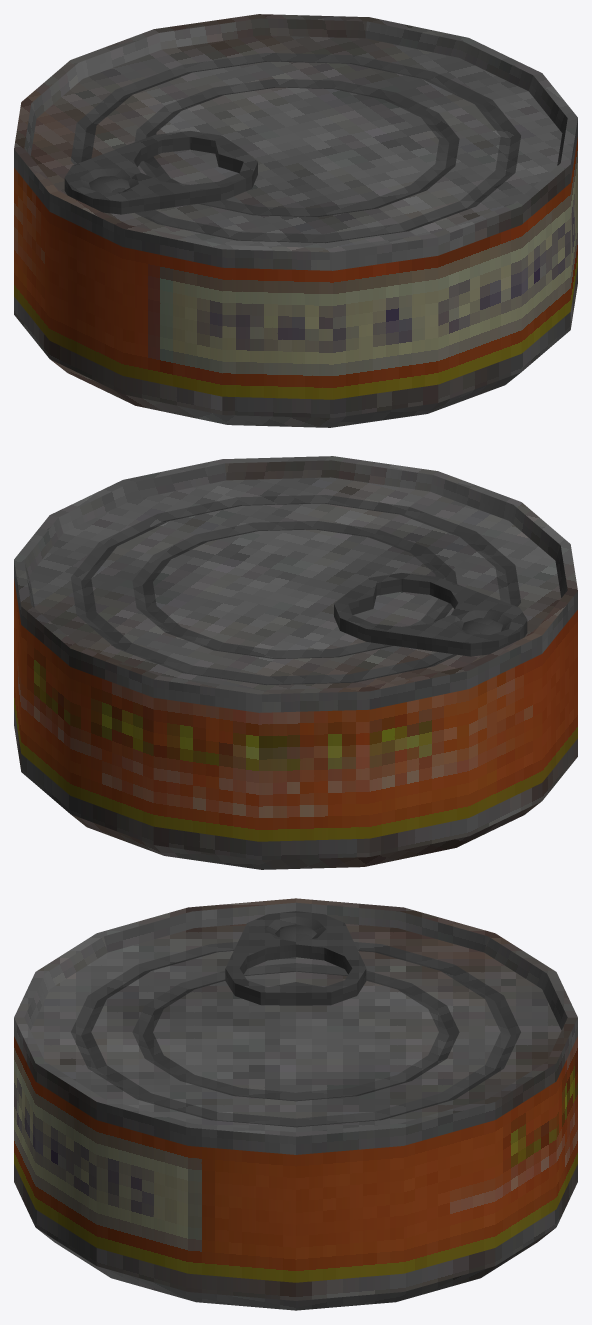
File: canned_food_3.glb
3 renders of one model, top to bottom at view 1: azimuth 30°, elevation 25°; view 2: azimuth 150°, elevation 25°; view 3: azimuth 270°, elevation 25°, orthographic.
Parts seen in each view (by area): view 1: canned_food_3; view 2: canned_food_3; view 3: canned_food_3.
Part boxes in pixels (x1,y1,x2,y2): canned_food_3: [14, 14, 577, 427]; canned_food_3: [14, 456, 577, 869]; canned_food_3: [14, 898, 577, 1310].
Bounding box in the file's own units: 0.112 × 0.04 × 0.112.
Materials: 3 (3 with a texture image).
